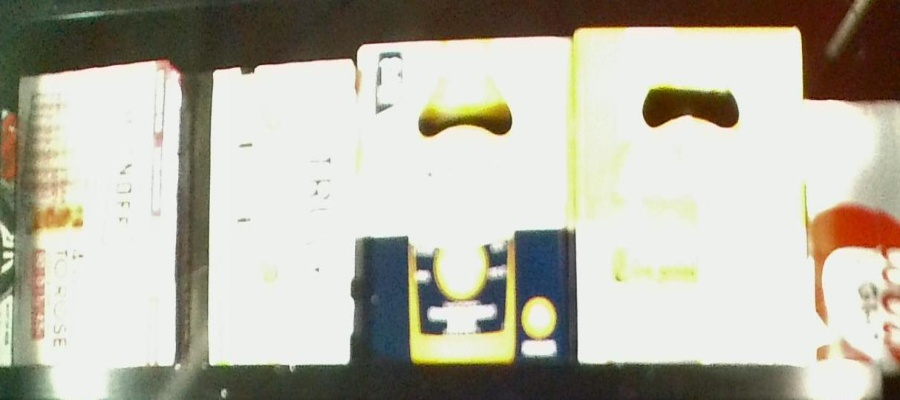bottle: (573, 28, 809, 362), (358, 35, 570, 361), (16, 61, 182, 367), (209, 64, 354, 364)
